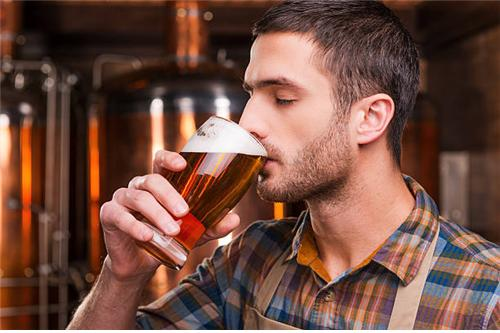alcohol: (140, 113, 268, 268)
